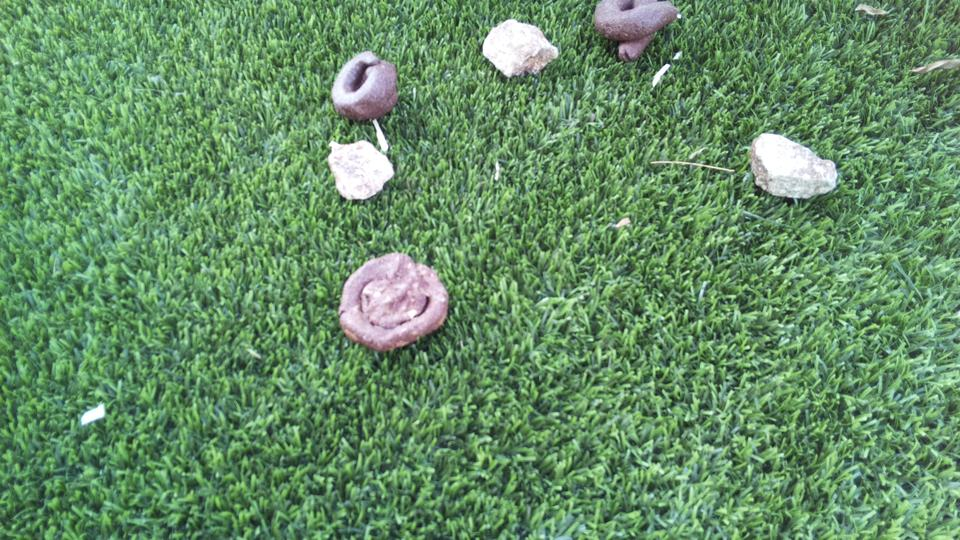poop: (336, 250, 455, 350), (590, 1, 680, 65), (326, 49, 405, 121)
